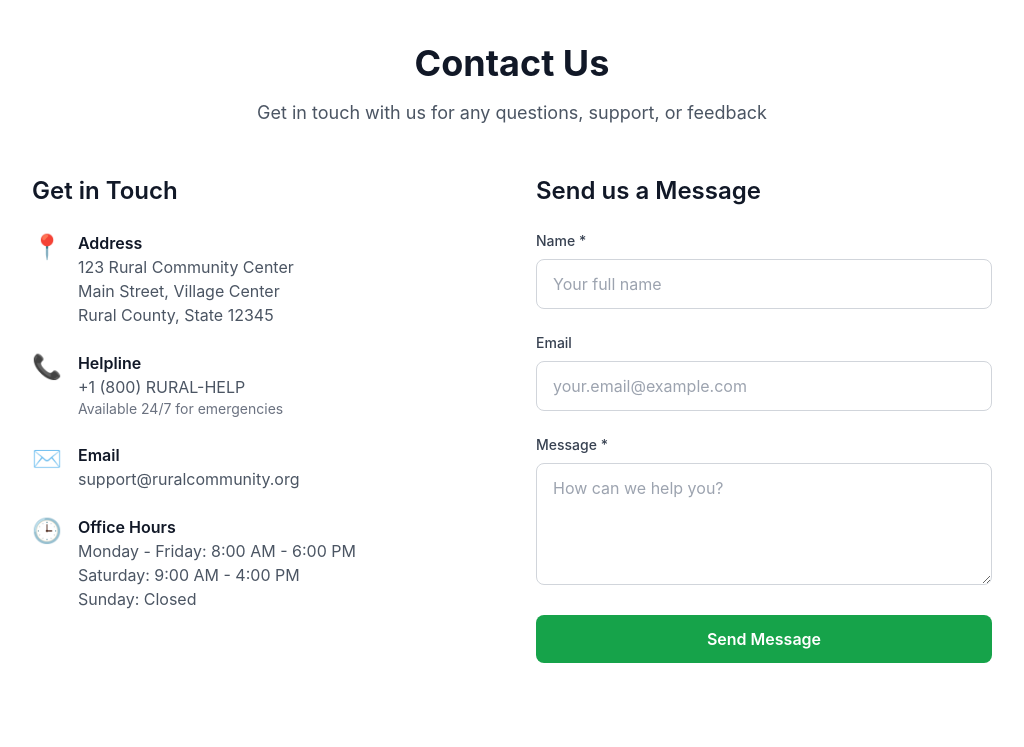
Test: ContactSection › Form Submission › submits form with valid data
Type "John Doe" into the field labelled "Name *". click: point(764, 284)
box: [536,259,992,309]
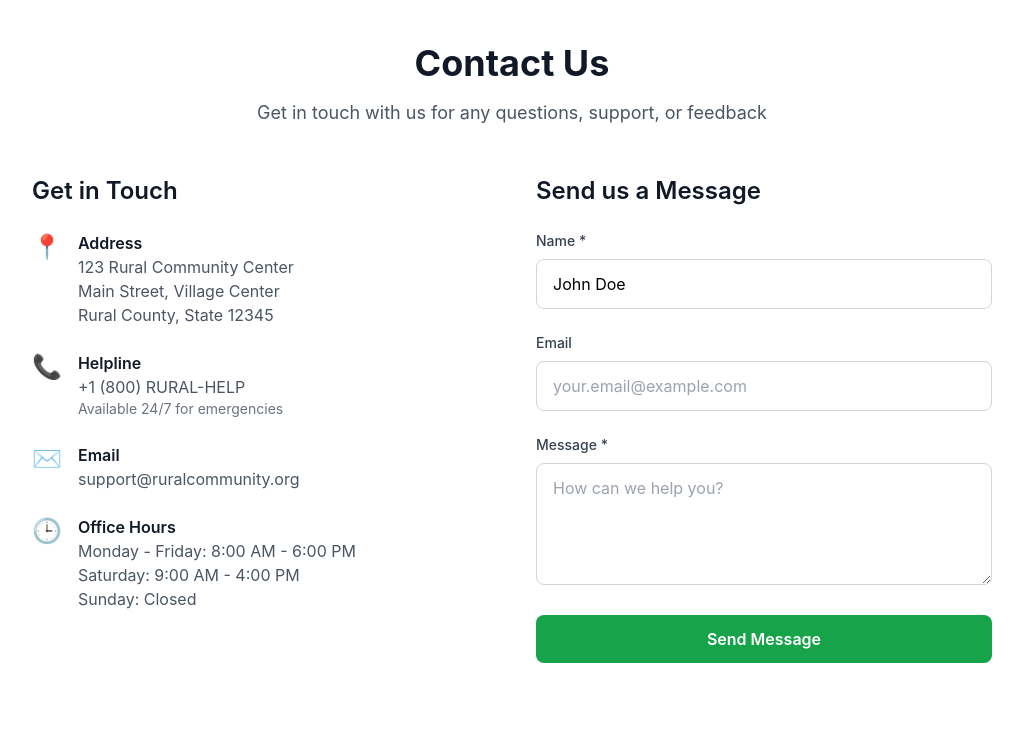
Type "john.doe@example.com" into the field labelled "Email". click: point(764, 386)
box: [536,361,992,411]
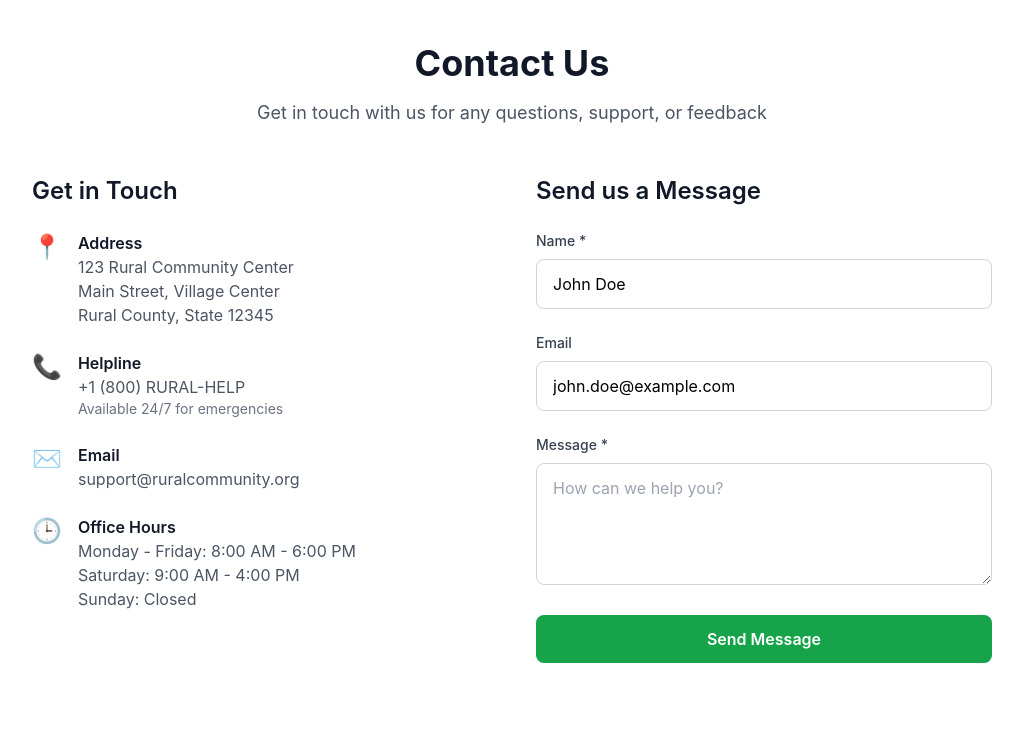
Type "This is a test message with enough characters." into the text box labelled "Message *". click: point(764, 524)
box: [536,463,992,585]
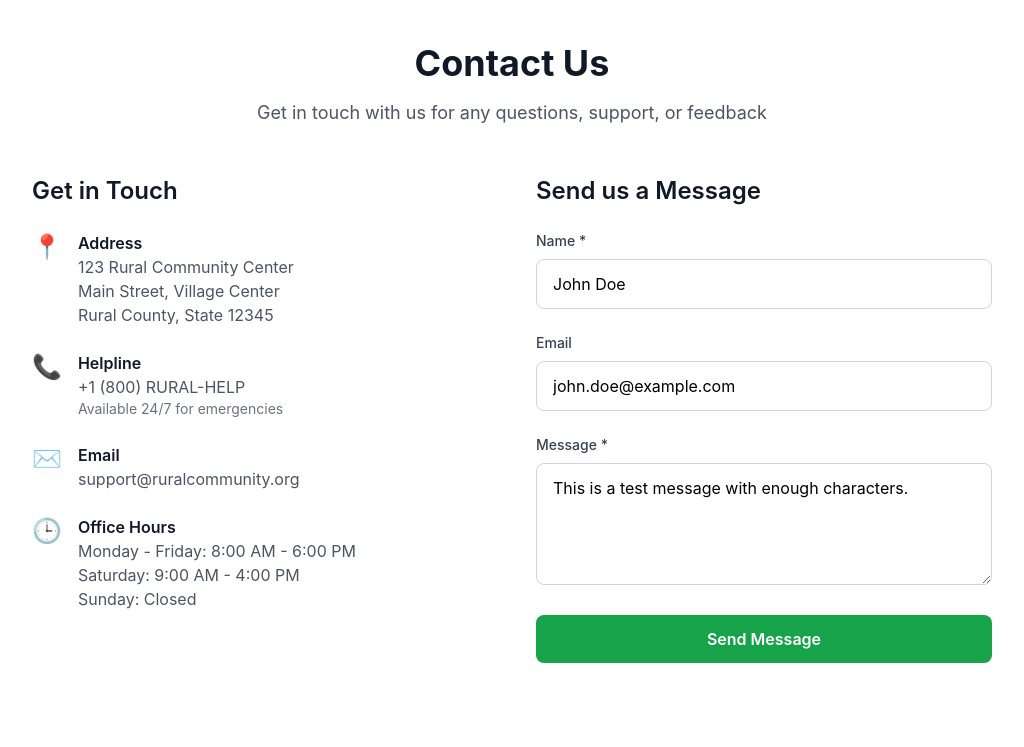
Click the button "Send Message". click: point(764, 639)
box: [536,615,992,663]
(page scrolled)
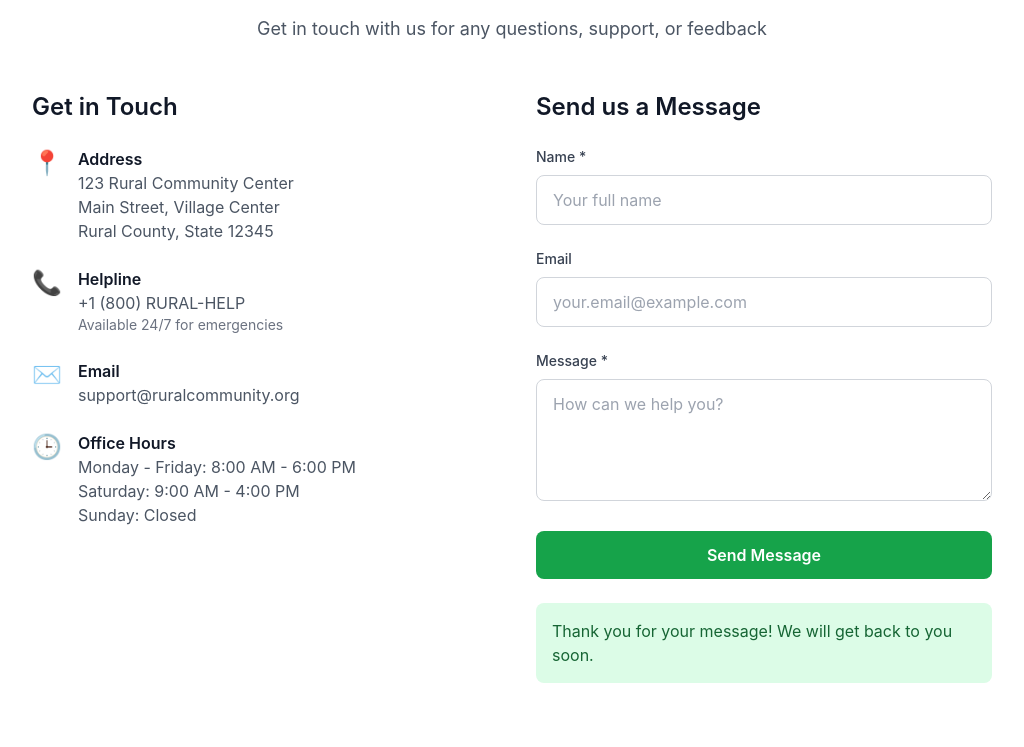
Now the text "Thank you for your message! We will get back to you soon." is shown, box [536,603,992,683]
